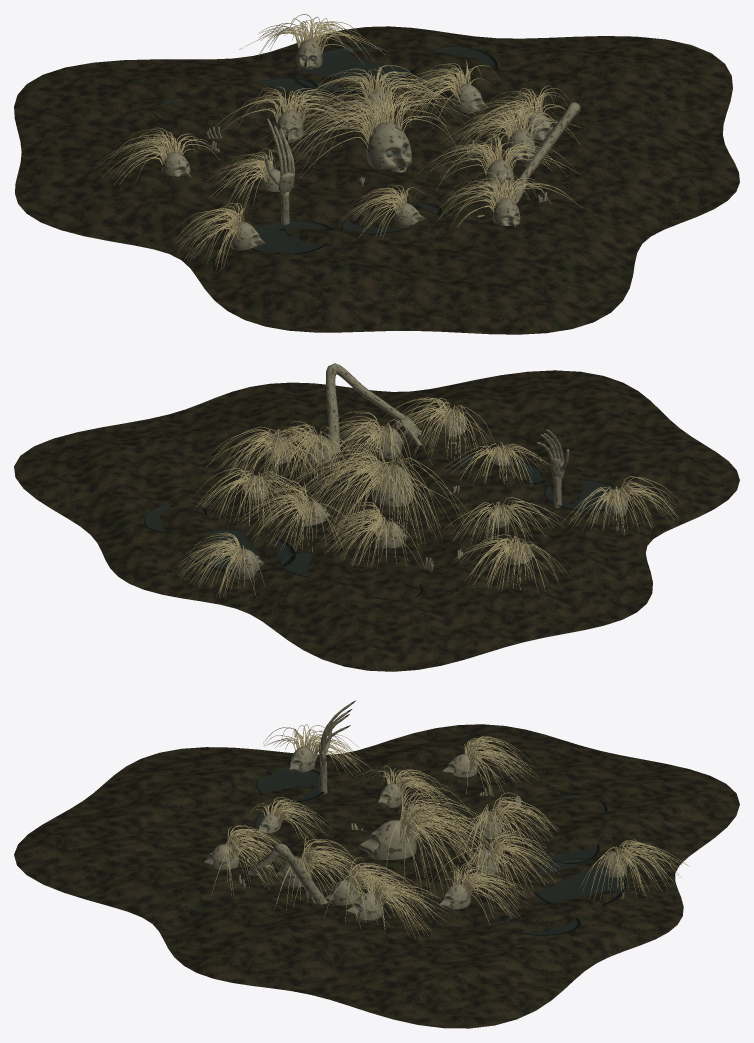
The model's file is Kochkarnik.fbx.
3 views of the same model, one above another, from view 1: azimuth 30°, elevation 25°; view 2: azimuth 150°, elevation 25°; view 3: azimuth 270°, elevation 25° (orthographic). The views are drawn at different scales.
Parts seen in each view (by area): view 1: Kochkarnik; view 2: Kochkarnik; view 3: Kochkarnik.
Part boxes in pixels (bbox=[...]): Kochkarnik: bbox=[14, 14, 739, 334]; Kochkarnik: bbox=[14, 363, 739, 671]; Kochkarnik: bbox=[14, 700, 739, 1028].
Size of the model in its own units: 6.22 by 1.06 by 6.27.
Materials: 5 (2 with a texture image).
